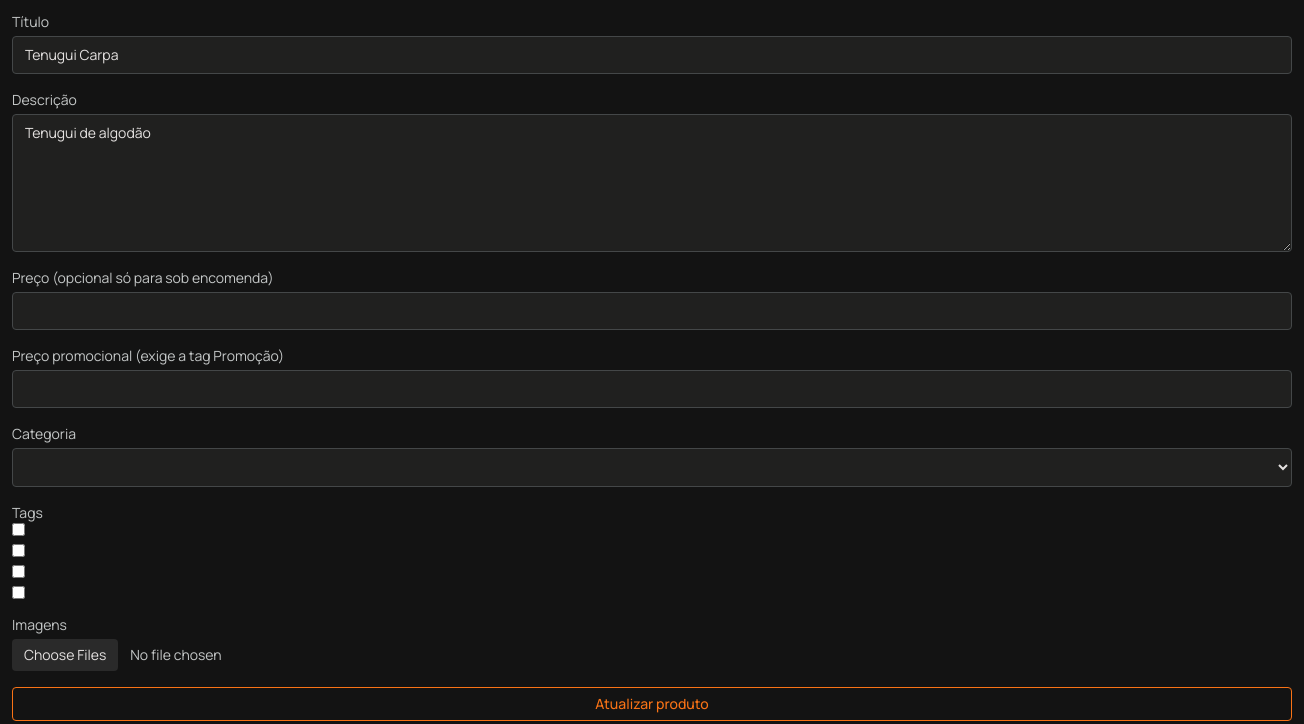
Test: ProductForm › usa a mensagem de falha da etapa quando o 400 não traz corpo legível
Click the button "Atualizar produto".
click(652, 704)  # box [12,687,1292,721]
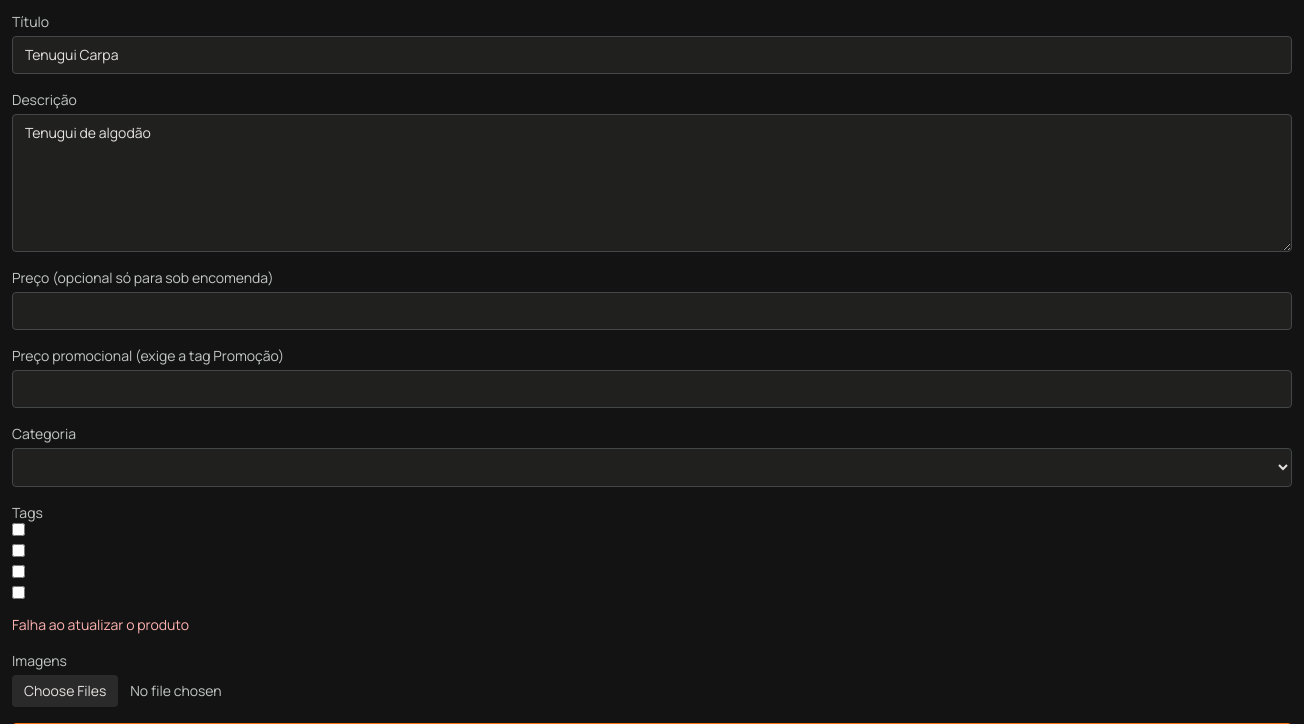
Expected: the text "Falha ao atualizar o produto" is shown, [12,615,189,634]
